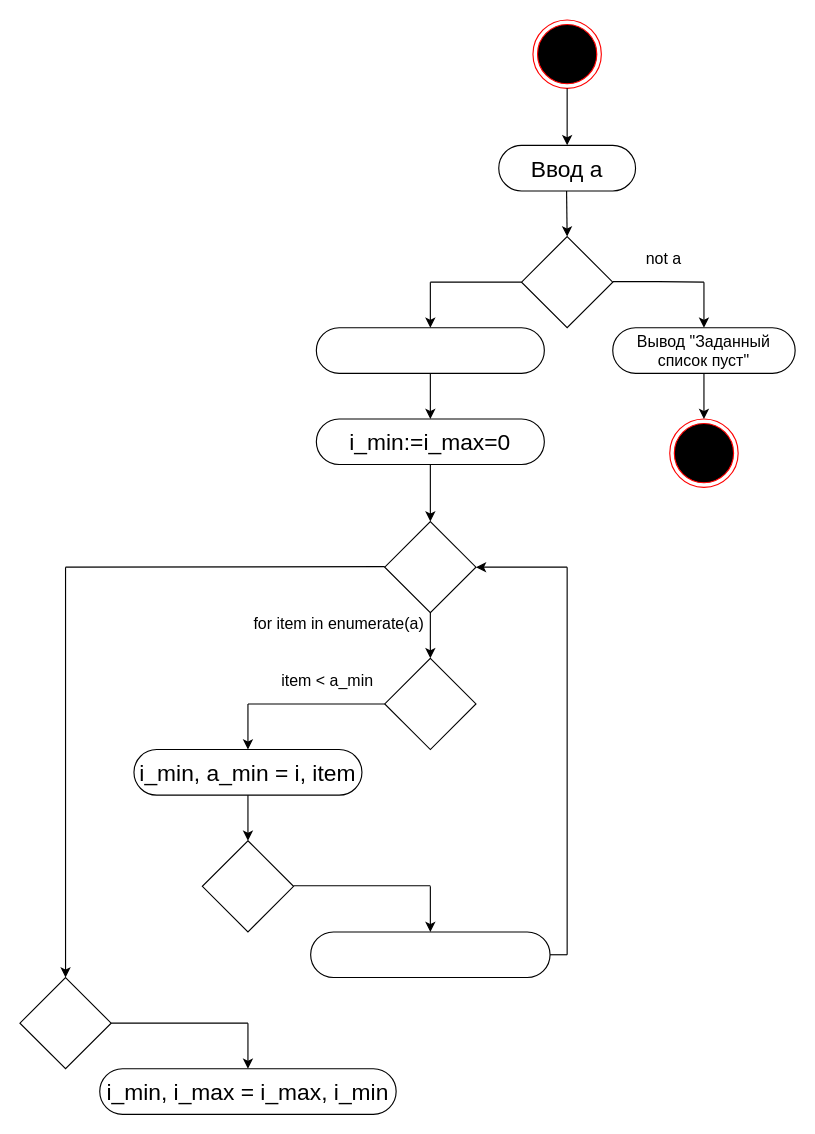
This 815x1134 diagram has some shape labels left out. The shapes that lost their labels are listed below. From the top down, each one's centre as x and y in pixels, then its label:
At (429,350): "a_min:=a_max=a[0]".
At (430,954): "i_max, a_max = i, item".
